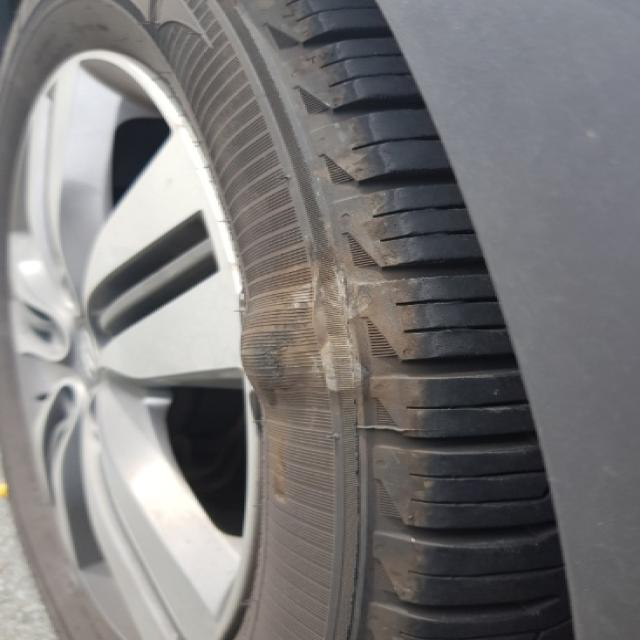Bulge: (236, 278, 324, 411)
